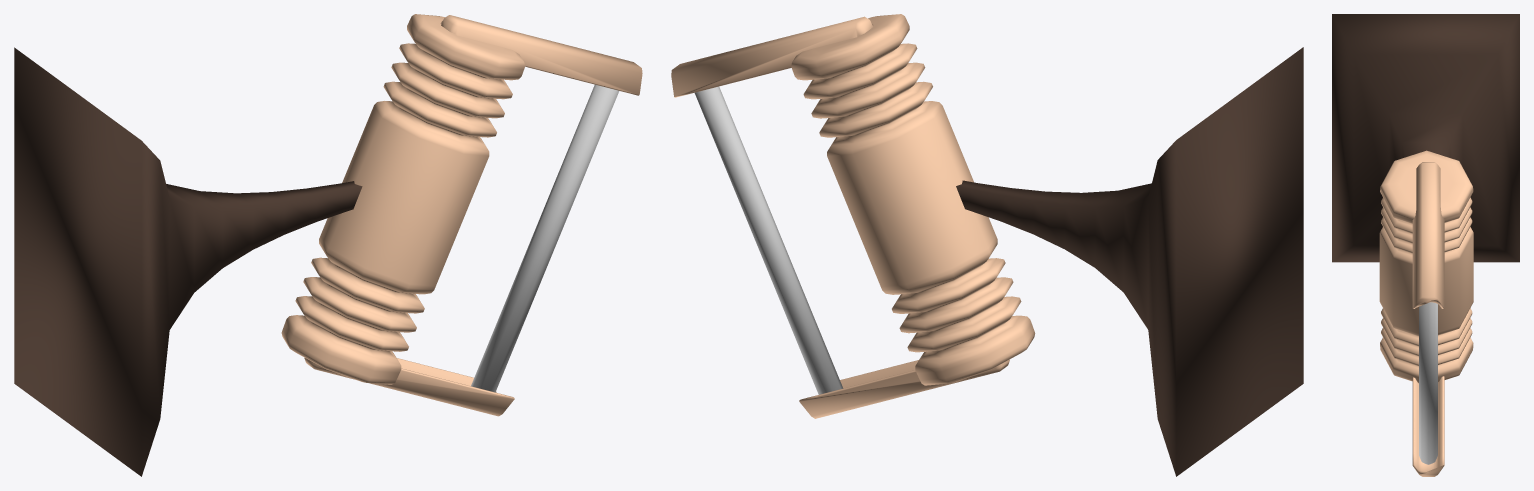
Rendered from fuse.obj.
3 renders of one model, left to right at view 1: azimuth 30°, elevation 25°; view 2: azimuth 150°, elevation 25°; view 3: azimuth 270°, elevation 25°, orthographic. The views are drawn at different scales.
Visible parts, largest first — view 1: Circle.002; view 2: Circle.002; view 3: Circle.002.
Part boxes in pixels (box(x1,y1,x2,y2)): Circle.002: box(14, 14, 642, 476); Circle.002: box(671, 14, 1303, 476); Circle.002: box(1332, 14, 1519, 476).
Bounding box in the file's own units: 0.5095 × 0.3666 × 0.2.
